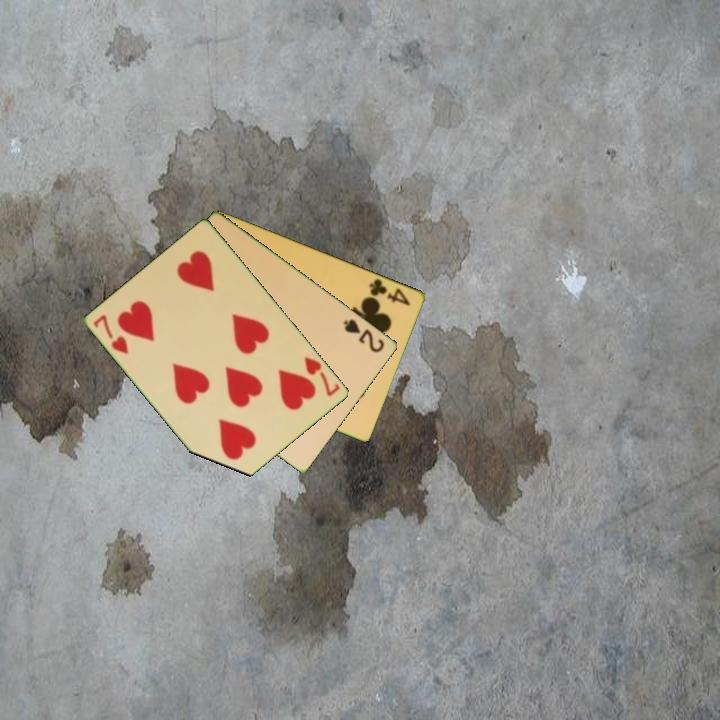2s: (340, 315, 388, 356)
4c: (366, 275, 414, 309)
7h: (301, 353, 343, 399), (90, 311, 132, 357)
